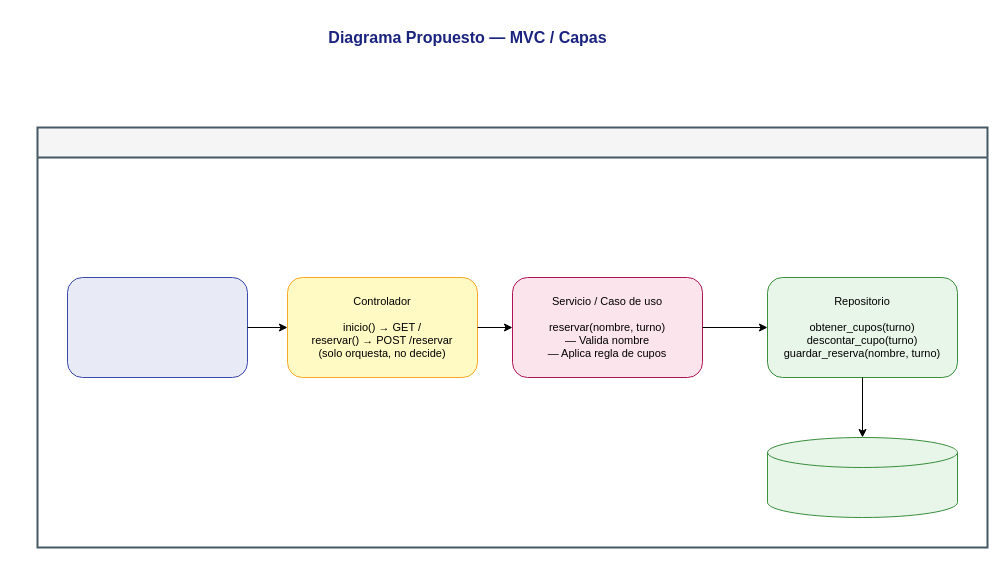
Image size: 1005x565. Some labels were removed from this diagram. The centre of each missing label's shape, as x and y in pixels:
"Datos en memoria CUPOS / RESERVAS (dict + list)" belongs at (862,477).
"Vista / Presentacion PAGINA (template HTML) render_template_string()" belongs at (157,327).
